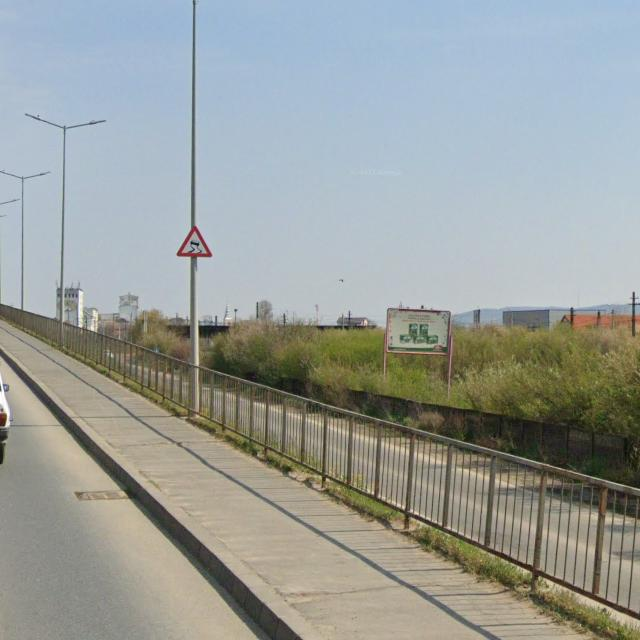warn_slippery_road: (176, 225, 213, 258)
